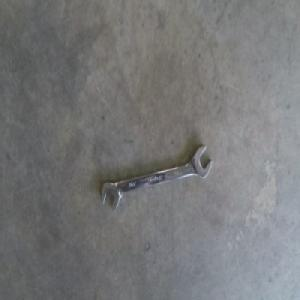Wrench: (101, 148, 211, 214)
